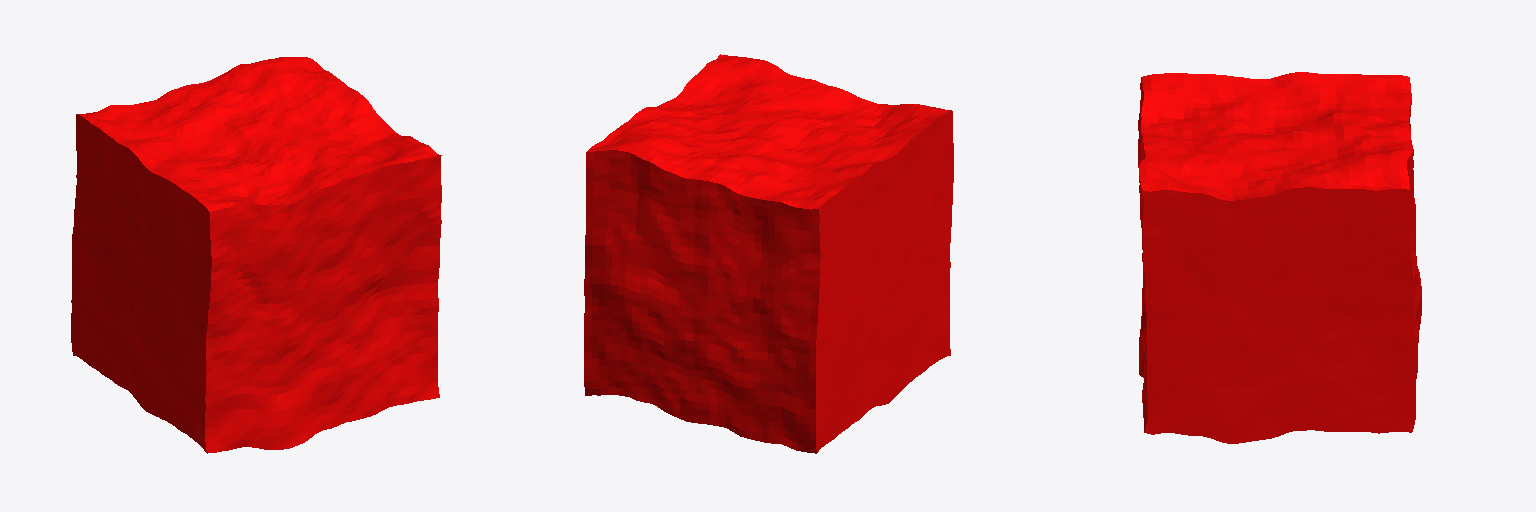
The model's file is Terrein1.obj.
The picture shows the model from 3 angles: view 1: azimuth 30°, elevation 25°; view 2: azimuth 150°, elevation 25°; view 3: azimuth 270°, elevation 25°; orthographic projection.
Visible parts, largest first — view 1: Terrein_Terrein; view 2: Terrein_Terrein; view 3: Terrein_Terrein.
Part boxes in pixels (bbox=[...]): Terrein_Terrein: bbox=[71, 57, 441, 453]; Terrein_Terrein: bbox=[584, 54, 953, 453]; Terrein_Terrein: bbox=[1138, 72, 1421, 443].
Size of the model in its own units: 101 by 111 by 106.